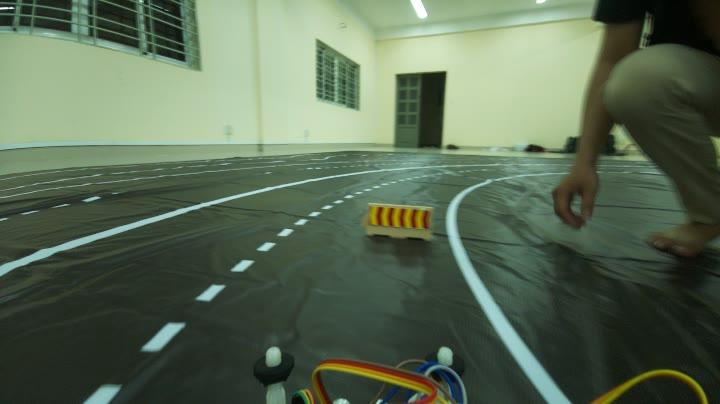roadblock: (362, 197, 437, 243)
